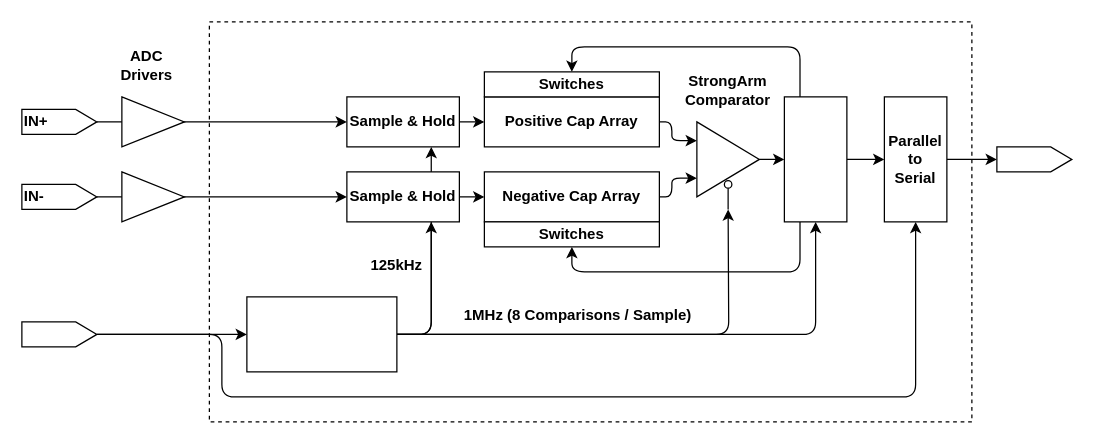
This 1094x444 diagram has some shape labels left out. Each missing label, with the box of its shape:
4MHz: (21, 321, 97, 347)
Clock Divider & Non-Overlap Clock: (246, 296, 397, 372)
SAR Logic: (783, 96, 847, 222)
SDO: (996, 146, 1072, 172)
